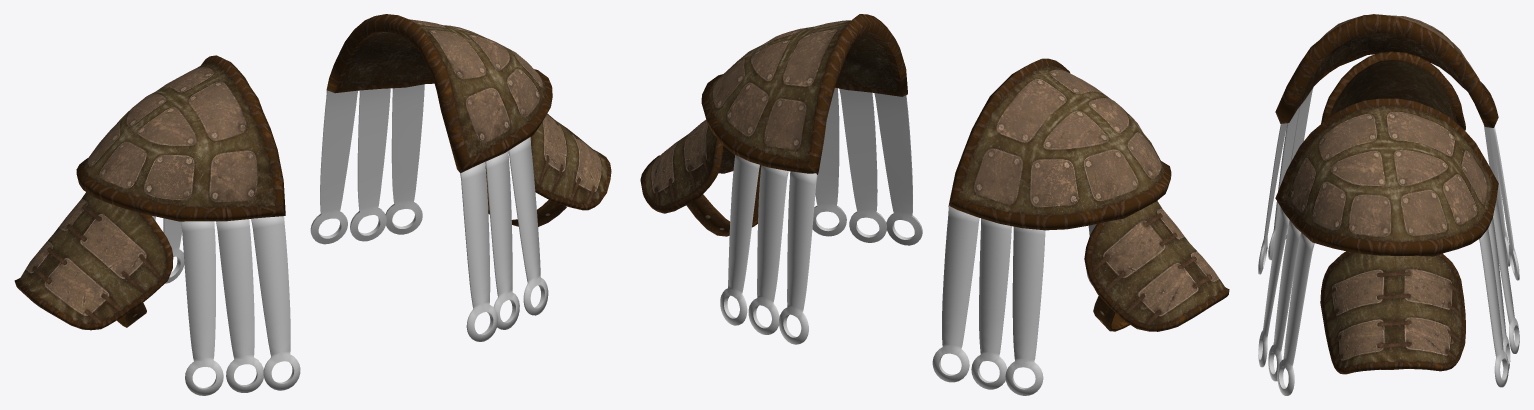
File: dunland_caerdh_pauldron_elite_a.fbx
3 renders of one model, left to right at view 1: azimuth 30°, elevation 25°; view 2: azimuth 150°, elevation 25°; view 3: azimuth 270°, elevation 25°, orthographic. The views are drawn at different scales.
Parts seen in each view (by area): view 1: dunland_caerdh_pauldron_elite_a, dunland_caerdh_pauldron_elite_a.straps; view 2: dunland_caerdh_pauldron_elite_a, dunland_caerdh_pauldron_elite_a.straps; view 3: dunland_caerdh_pauldron_elite_a, dunland_caerdh_pauldron_elite_a.straps.
Boxes of the visible parts, bbox=[...] form: dunland_caerdh_pauldron_elite_a: bbox=[14, 14, 611, 330]; dunland_caerdh_pauldron_elite_a.straps: bbox=[152, 84, 548, 395]; dunland_caerdh_pauldron_elite_a: bbox=[640, 14, 1229, 331]; dunland_caerdh_pauldron_elite_a.straps: bbox=[720, 87, 1096, 395]; dunland_caerdh_pauldron_elite_a: bbox=[1275, 14, 1498, 374]; dunland_caerdh_pauldron_elite_a.straps: bbox=[1258, 88, 1519, 395].
Size of the model in its own units: 0.8069 by 0.336 by 0.3728.
